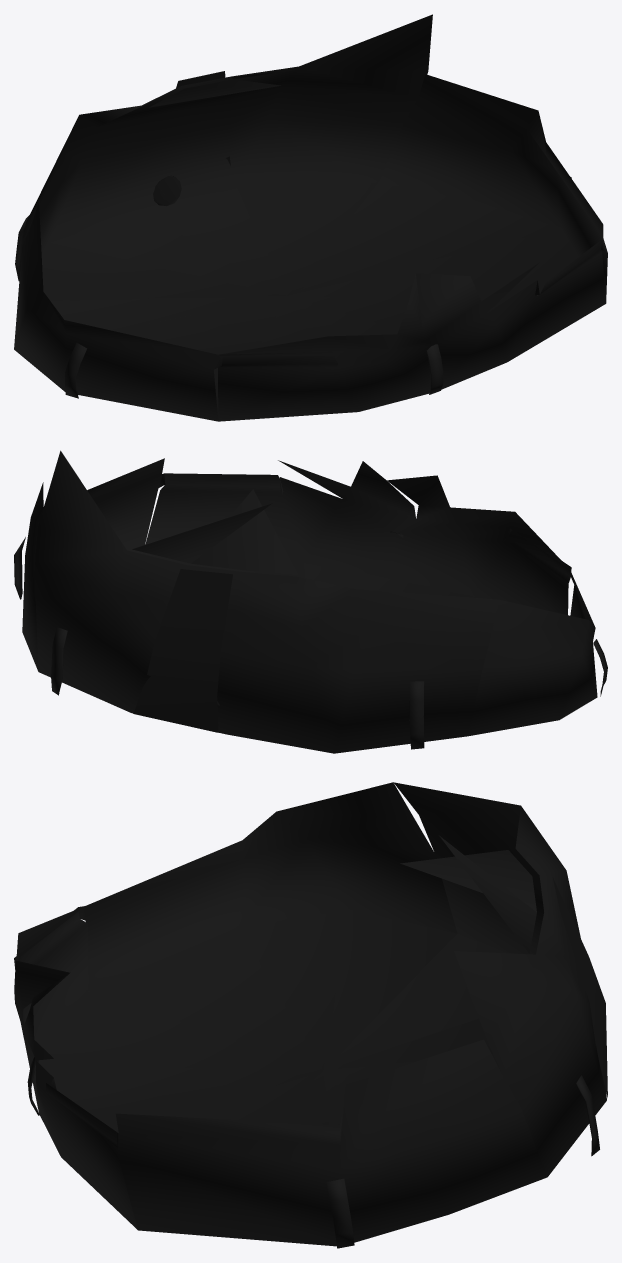
The model's file is hip.glb.
3 views of the same model, one above another, from view 1: azimuth 30°, elevation 25°; view 2: azimuth 150°, elevation 25°; view 3: azimuth 270°, elevation 25° (orthographic). The views are drawn at different scales.
Visible parts, largest first — view 1: trousers-black_HIP; view 2: trousers-black_HIP; view 3: trousers-black_HIP.
Boxes of the visible parts, x1,y1,x2,y2 form: trousers-black_HIP: (14, 14, 607, 421); trousers-black_HIP: (14, 450, 607, 753); trousers-black_HIP: (14, 782, 607, 1248).
Bounding box in the file's own units: 0.4339 × 0.1591 × 0.3265.
1 material, 1 textured.
